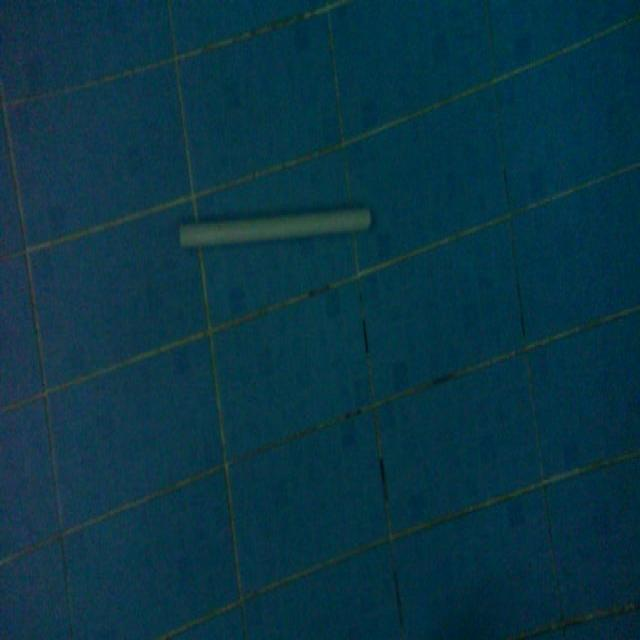Cube: (177, 199, 374, 253)
